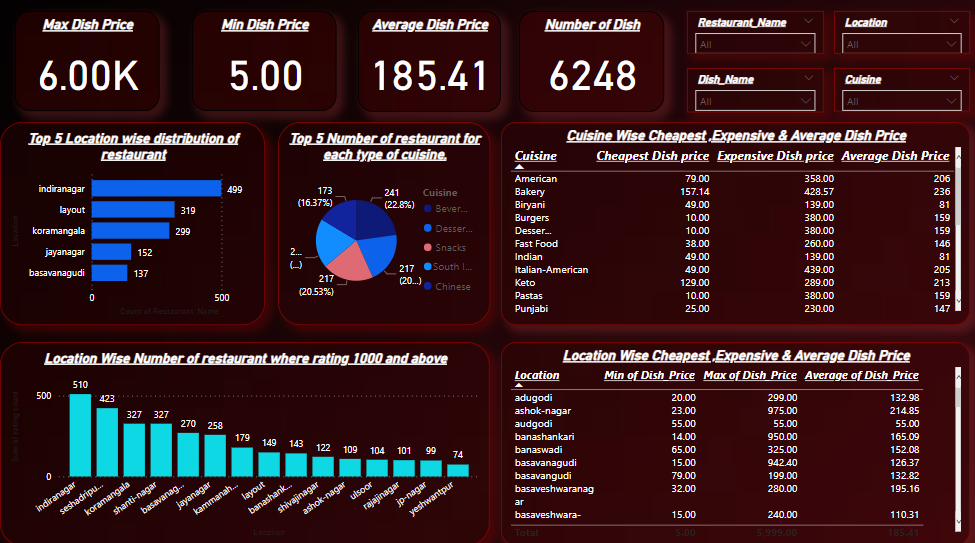

The page's visual inventory and layout, read from the dashboard file:
{"tool":"powerbi","page":{"name":"Page 1","canvas":[1280,720],"ordinal":0},"visuals":[{"type":"barChart","title":"Top 5 Location wise distribution of restaurant","fields":{"Category":["restaurant_info.Location"],"Y":["CountNonNull(restaurant_info.Restaurant_Name)"]},"box":[0,164.9,346.9,265.7],"z":0},{"type":"tableEx","title":" Cuisine Wise Cheapest ,Expensive & Average Dish Price","fields":{"Values":["price range.Cuisine","price range.Cheapest Dish price","price range.Expensive Dish price","price range.Average of restaurant_details.Dish_Price"]},"box":[655.9,164.9,614,265.7],"z":1000},{"type":"clusteredColumnChart","title":"Location Wise Number of restaurant where rating  1000 and above ","fields":{"Category":["restaurant_info.Location"],"Y":["Sum(restaurant_details.rating count)"]},"box":[0,453.2,640.8,267.2],"z":2000},{"type":"tableEx","title":" Location Wise Cheapest ,Expensive & Average Dish Price","fields":{"Values":["restaurant_info.Location","Min(restaurant_details.Dish_Price)","Max(restaurant_details.Dish_Price)1","Avg(restaurant_details.Dish_Price)2"]},"box":[656.1,453.2,613.8,267.2],"z":3000},{"type":"pieChart","title":"Top 5 Number of restaurant for each type of cuisine.","fields":{"Category":["restaurant_info.Cuisine"],"Y":["CountNonNull(restaurant_info.Restaurant_Name)"]},"box":[363.9,164.9,277.5,265.7],"z":4000},{"type":"card","title":"Max Dish Price","fields":{"Values":["Max(restaurant_details.Dish_Price)"]},"box":[19.6,19.6,188.5,130.9],"z":5000},{"type":"card","title":"Min Dish Price","fields":{"Values":["Min(restaurant_details.Dish_Price)"]},"box":[251.3,19.6,188.5,130.9],"z":6000},{"type":"card","title":"Average Dish Price","fields":{"Values":["Avg(restaurant_details.Dish_Price)"]},"box":[468.7,19.6,187.2,132.2],"z":7000},{"type":"card","title":"Number of  Dish ","fields":{"Values":["Count(restaurant_details.Dish_Name)"]},"box":[679.4,19.6,189.8,132.2],"z":8000},{"type":"slicer","fields":{"Values":["restaurant_details.Dish_Name"]},"box":[899.3,94.3,179.3,57.6],"z":8001},{"type":"slicer","fields":{"Values":["restaurant_info.Cuisine"]},"box":[1092.3,94.7,177.5,57.5],"z":8002},{"type":"slicer","fields":{"Values":["restaurant_info.Restaurant_Name"]},"box":[899.6,20.3,179.2,55.8],"z":8003},{"type":"slicer","fields":{"Values":["restaurant_info.Location"]},"box":[1092.3,20.3,177.5,55.8],"z":8004}]}

Visuals, with their boxes in screenshot pixels (x1, y1, x2, y2), scaled from the page's 1280x720 canvas onto the 975x543 screenshot:
"Top 5 Location wise distribution of restaurant" barChart: box=[0, 124, 264, 325]
" Cuisine Wise Cheapest ,Expensive & Average Dish Price" tableEx: box=[500, 124, 967, 325]
"Location Wise Number of restaurant where rating  1000 and above " clusteredColumnChart: box=[0, 342, 488, 542]
" Location Wise Cheapest ,Expensive & Average Dish Price" tableEx: box=[500, 342, 967, 542]
"Top 5 Number of restaurant for each type of cuisine." pieChart: box=[277, 124, 489, 325]
"Max Dish Price" card: box=[15, 15, 159, 114]
"Min Dish Price" card: box=[191, 15, 335, 114]
"Average Dish Price" card: box=[357, 15, 500, 114]
"Number of  Dish " card: box=[518, 15, 662, 114]
slicer - restaurant_details.Dish_Name: box=[685, 71, 822, 115]
slicer - restaurant_info.Cuisine: box=[832, 71, 967, 115]
slicer - restaurant_info.Restaurant_Name: box=[685, 15, 822, 57]
slicer - restaurant_info.Location: box=[832, 15, 967, 57]
